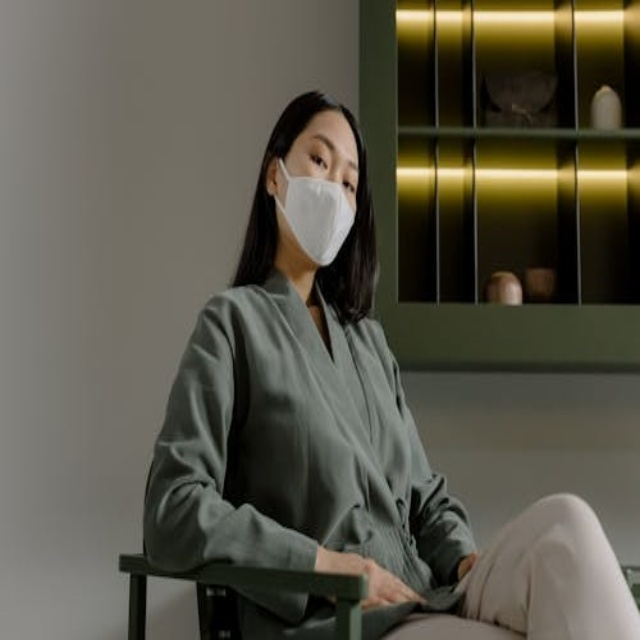Mascara: (274, 156, 356, 266)
Sin_gafas: (298, 127, 358, 192)
Sin_guantes: (320, 536, 433, 615)
